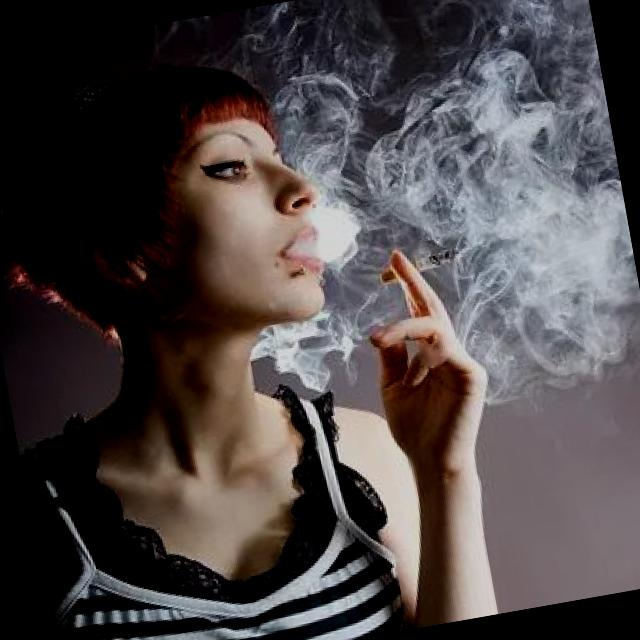smoke: (372, 243, 459, 296)
